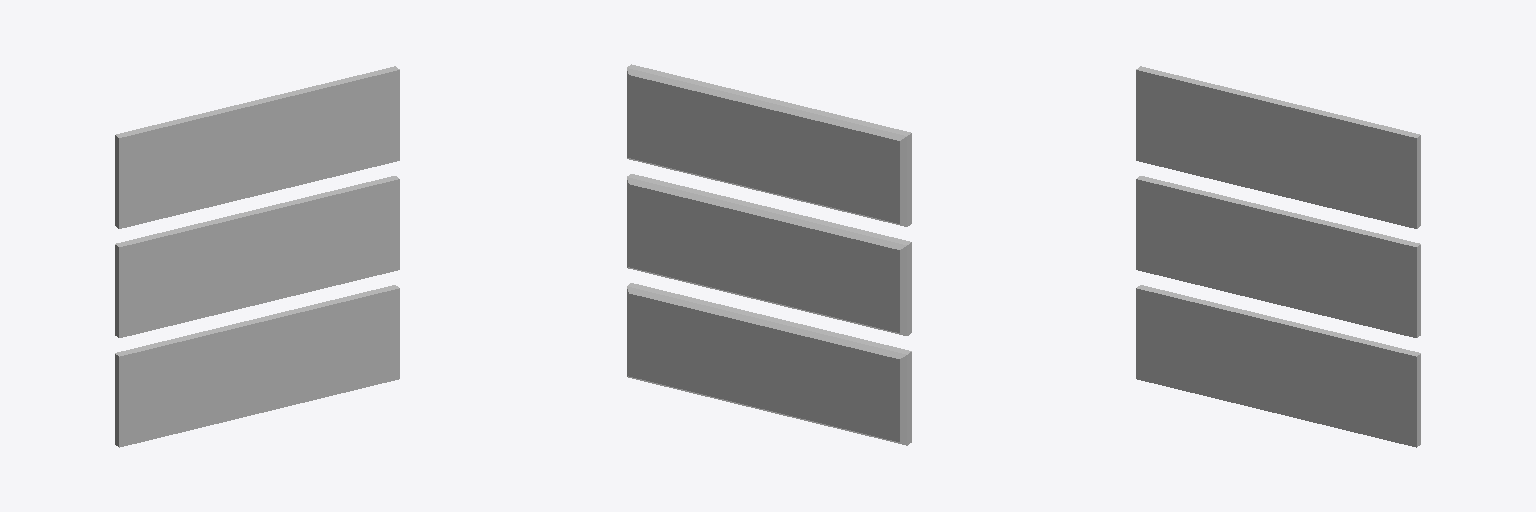
File: bedside_table_doors.obj
3 renders of one model, left to right at view 1: azimuth 30°, elevation 25°; view 2: azimuth 150°, elevation 25°; view 3: azimuth 330°, elevation 25°, orthographic.
Visible parts, largest first — view 1: Plane.004; view 2: Plane.004; view 3: Plane.004.
Boxes of the visible parts, <box> form: Plane.004: <box>115,66,399,447</box>; Plane.004: <box>627,64,911,445</box>; Plane.004: <box>1136,66,1420,447</box>.
Bounding box in the file's own units: 0.1988 × 0.2094 × 0.0091.